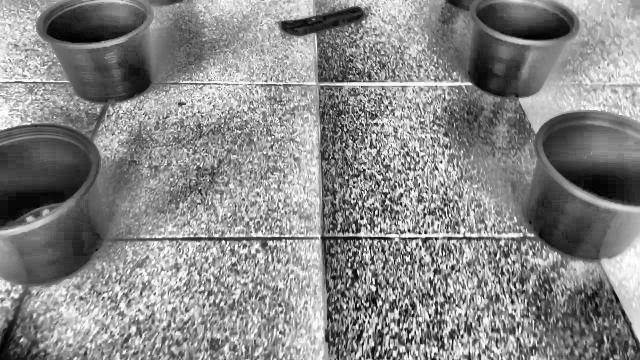pot: (524, 111, 640, 262), (0, 124, 107, 287), (36, 0, 155, 105), (466, 0, 580, 99)
